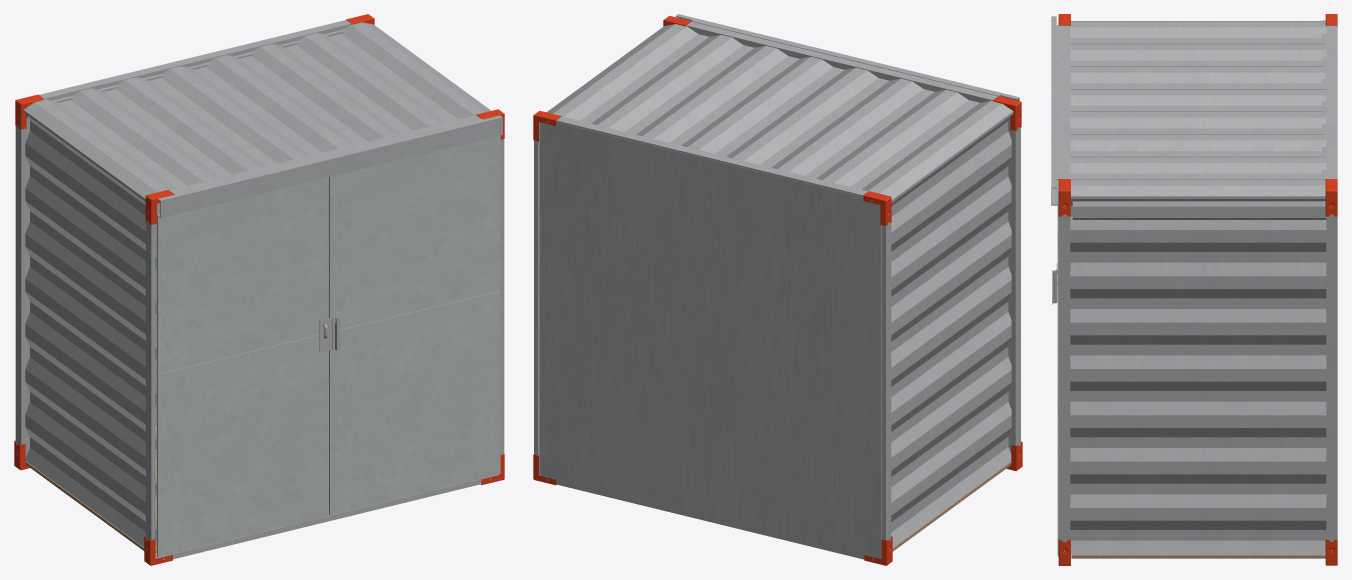
The model's file is 3M-closed.glb.
The picture shows the model from 3 angles, left to right: view 1: azimuth 30°, elevation 25°; view 2: azimuth 150°, elevation 25°; view 3: azimuth 270°, elevation 25°; orthographic projection. The views are drawn at different scales.
Bounding box in the file's own units: 23.17 × 22.88 × 15.81.
Materials: 4 (3 with a texture image).
